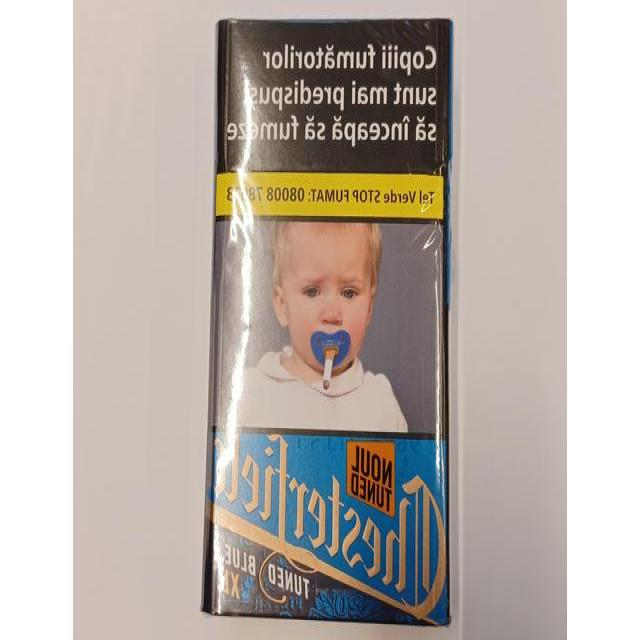chesterfield: (198, 11, 458, 624)
